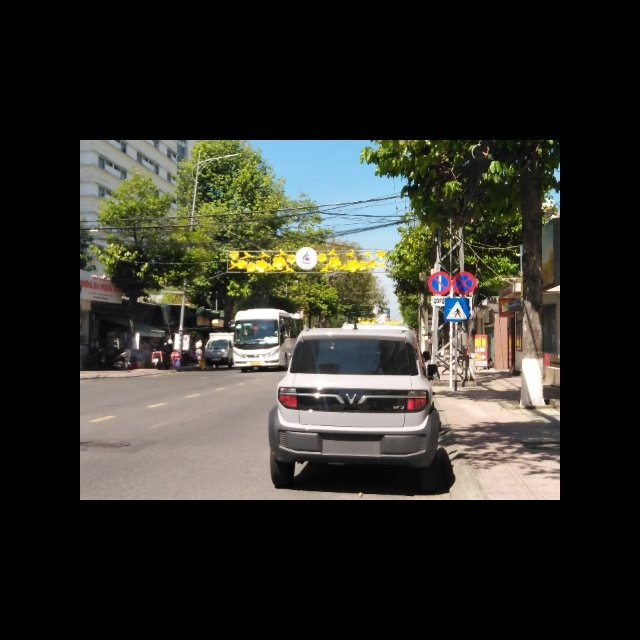Cấm dừng xe và đỗ xe: (453, 272, 477, 295)
Cấm đỗ xe ngày lẻ: (428, 271, 451, 295)
Đường dành cho người đi bộ: (444, 296, 470, 323)
